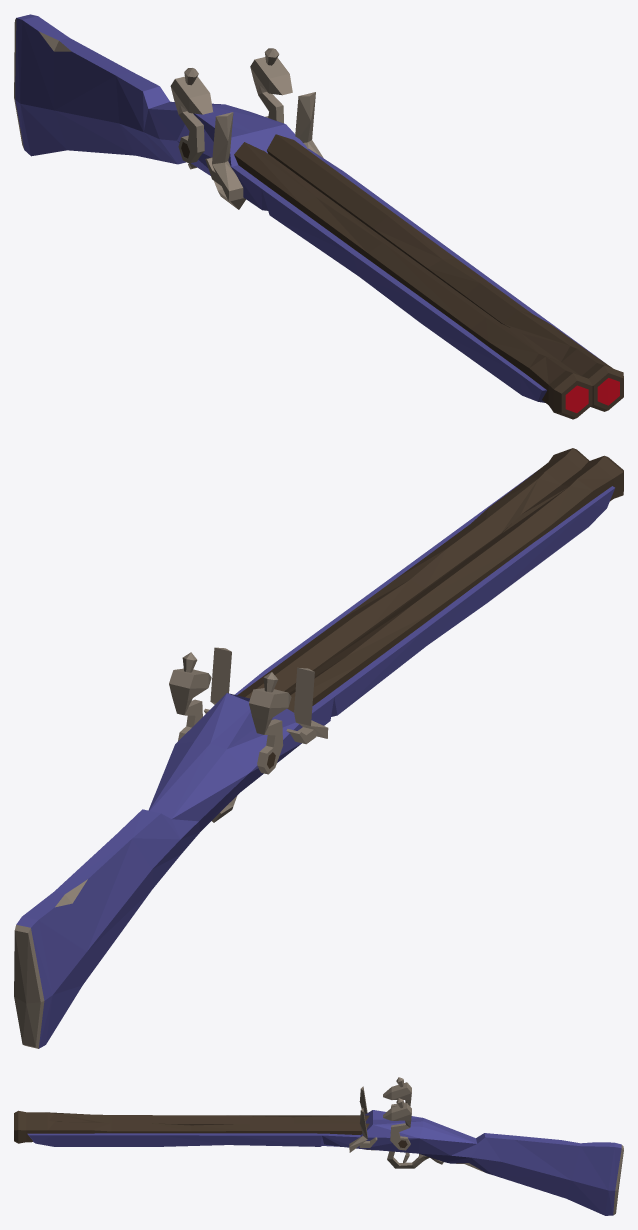
File: SM_Wep_Rifle_DoubleBarrel_01_Separate.glb
The picture shows the model from 3 angles, top to bottom: view 1: azimuth 30°, elevation 25°; view 2: azimuth 150°, elevation 25°; view 3: azimuth 270°, elevation 25°; orthographic projection. The views are drawn at different scales.
Parts seen in each view (by area): view 1: SM_Wep_Rifle_DoubleBarrel_01_Separate_00, SM_Wep_Rifle_DoubleBarrel_01_Separate_01, SM_Wep_Rifle_DoubleBarrel_01_Separate_02; view 2: SM_Wep_Rifle_DoubleBarrel_01_Separate_00, SM_Wep_Rifle_DoubleBarrel_01_Separate_01, SM_Wep_Rifle_DoubleBarrel_01_Separate_02; view 3: SM_Wep_Rifle_DoubleBarrel_01_Separate_00, SM_Wep_Rifle_DoubleBarrel_01_Separate_02, SM_Wep_Rifle_DoubleBarrel_01_Separate_01.
Part boxes in pixels (x1,y1,x2,y2): SM_Wep_Rifle_DoubleBarrel_01_Separate_00: (14, 14, 623, 419); SM_Wep_Rifle_DoubleBarrel_01_Separate_01: (170, 68, 212, 163); SM_Wep_Rifle_DoubleBarrel_01_Separate_02: (250, 48, 292, 123); SM_Wep_Rifle_DoubleBarrel_01_Separate_00: (14, 448, 623, 1048); SM_Wep_Rifle_DoubleBarrel_01_Separate_01: (249, 672, 291, 774); SM_Wep_Rifle_DoubleBarrel_01_Separate_02: (169, 652, 211, 740); SM_Wep_Rifle_DoubleBarrel_01_Separate_00: (14, 1086, 623, 1215); SM_Wep_Rifle_DoubleBarrel_01_Separate_02: (383, 1098, 411, 1150); SM_Wep_Rifle_DoubleBarrel_01_Separate_01: (383, 1077, 411, 1107).
Bounding box in the file's own units: 0.1422 × 0.3221 × 1.4.
Materials: 1 (1 with a texture image).
